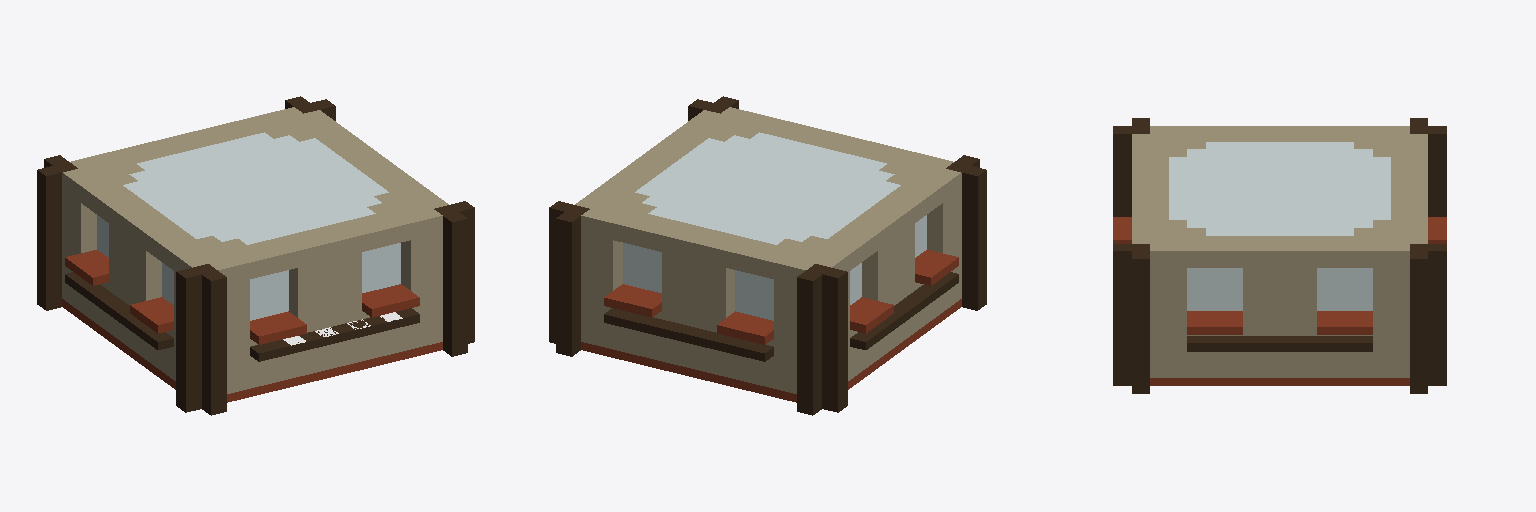
Rendered from Simple_layer Colored.obj.
3 renders of one model, left to right at view 1: azimuth 30°, elevation 25°; view 2: azimuth 150°, elevation 25°; view 3: azimuth 270°, elevation 25°, orthographic.
Parts seen in each view (by area): view 1: Simple_layer Colored; view 2: Simple_layer Colored; view 3: Simple_layer Colored.
Boxes of the visible parts, x1=… form: Simple_layer Colored: x1=37, y1=96, x2=474, y2=415; Simple_layer Colored: x1=549, y1=96, x2=986, y2=415; Simple_layer Colored: x1=1113, y1=118, x2=1446, y2=393.
Size of the model in its own units: 1.12 by 0.5 by 1.12.